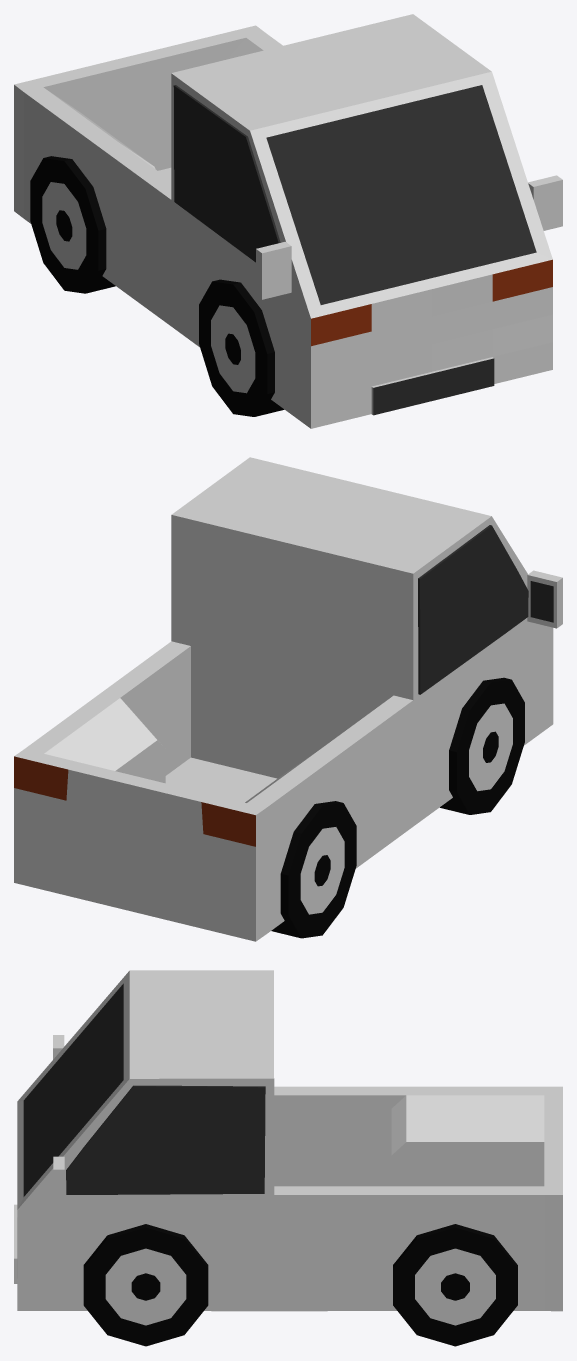
File: mobil 3.fbx
3 views of the same model, one above another, from view 1: azimuth 30°, elevation 25°; view 2: azimuth 150°, elevation 25°; view 3: azimuth 270°, elevation 25° (orthographic). The views are drawn at different scales.
Visible parts, largest first — view 1: Cube.007; view 2: Cube.007; view 3: Cube.007.
Part boxes in pixels (x1,y1,x2,y2): Cube.007: (14,14,562,428); Cube.007: (14,457,562,941); Cube.007: (14,970,562,1346).
Size of the model in its own units: 205 by 187 by 352.
